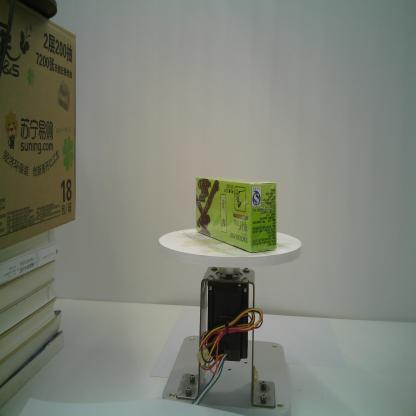Instant Drink: (195, 176, 277, 253)
